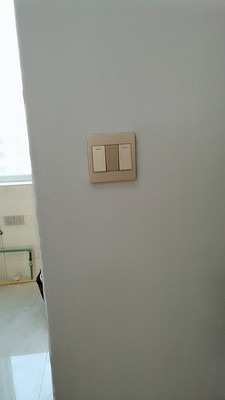switch: (90, 143, 108, 173), (103, 143, 121, 173), (119, 142, 135, 171)
